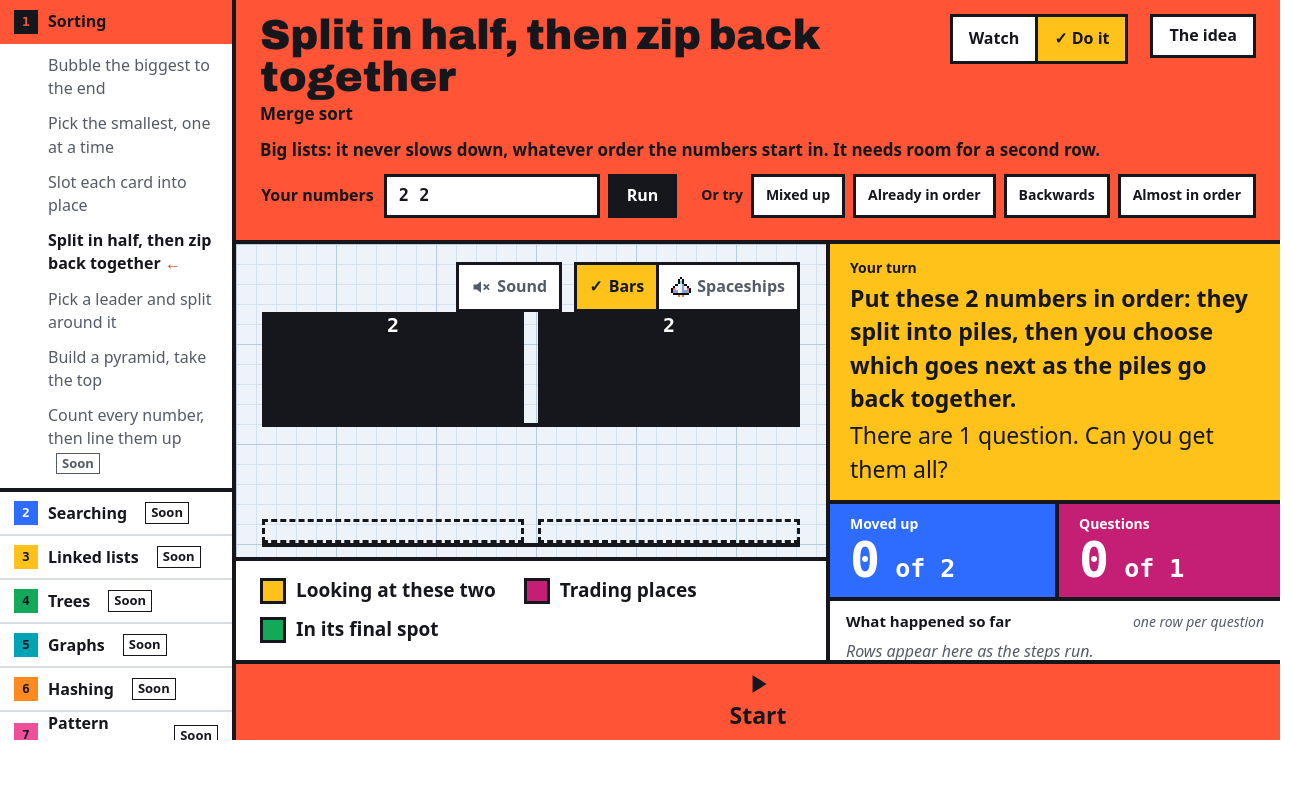
Test case: merge sort: Do it › equal values: the left one is right, the right one is wrong
Click the button "Start" at {"x": 758, "y": 702}, box [236, 664, 1280, 740]
Wait 4000 ms
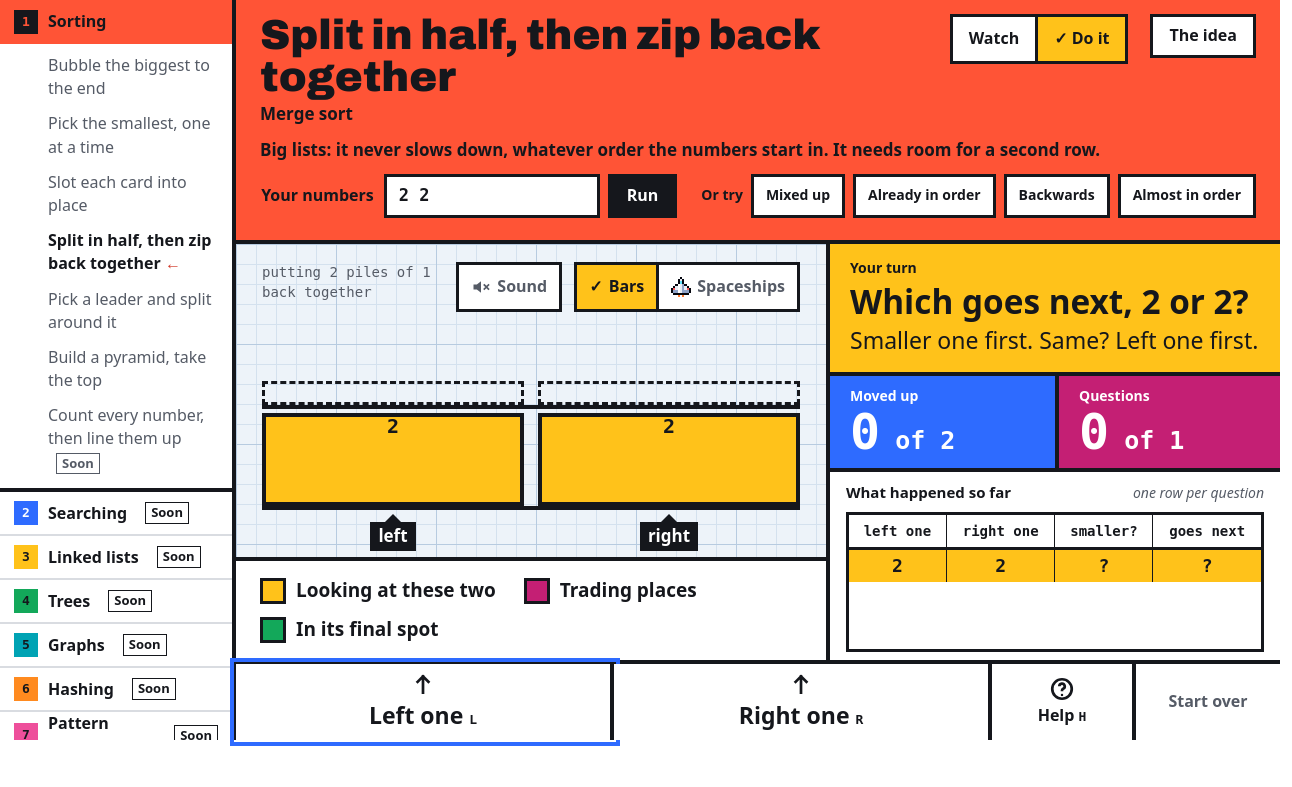
Result: the text with class "do-it-question" reads "Which goes next, 2 or 2?" at [850, 278, 1249, 324]
Click the button "Right one R" at {"x": 803, "y": 702}, box [614, 664, 992, 740]
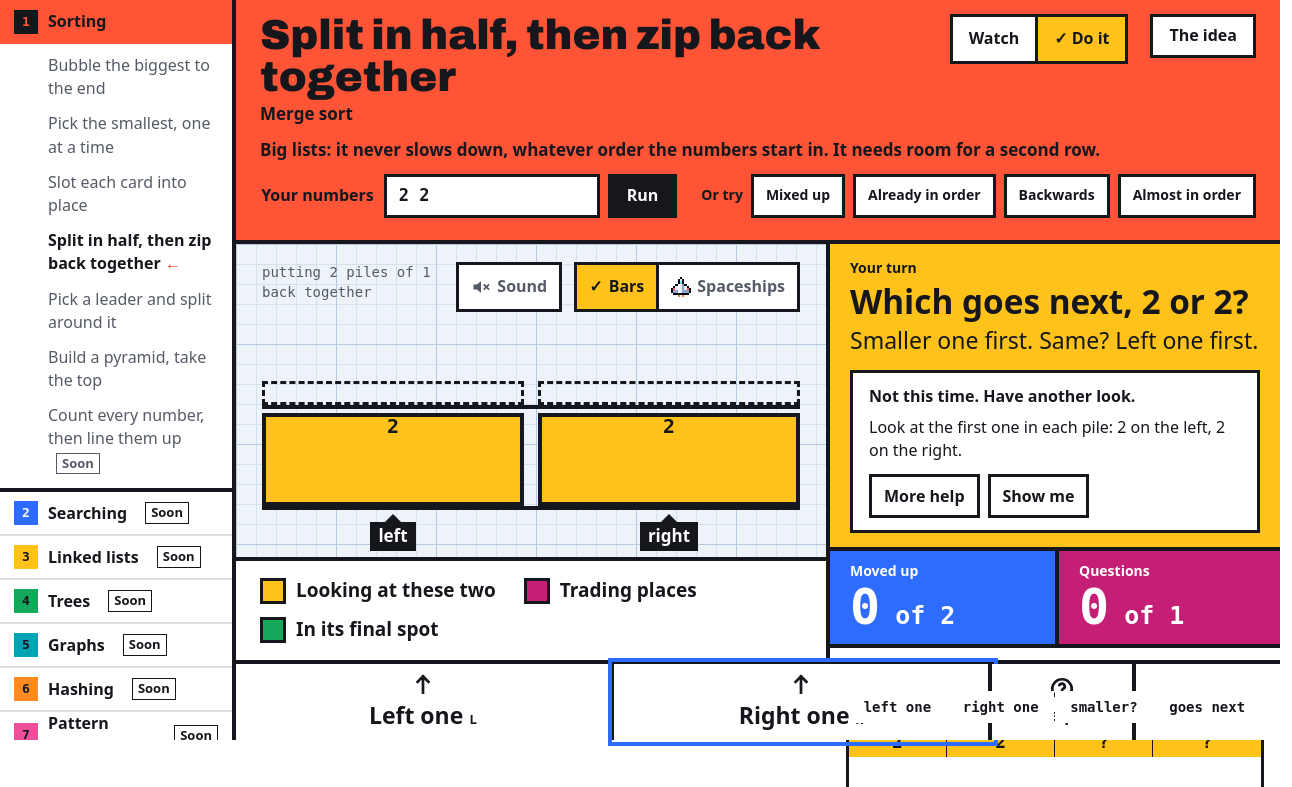
Result: the element with class "do-it-panel" shows "Not this time." at [869, 385, 1135, 407]
Type keys "h"
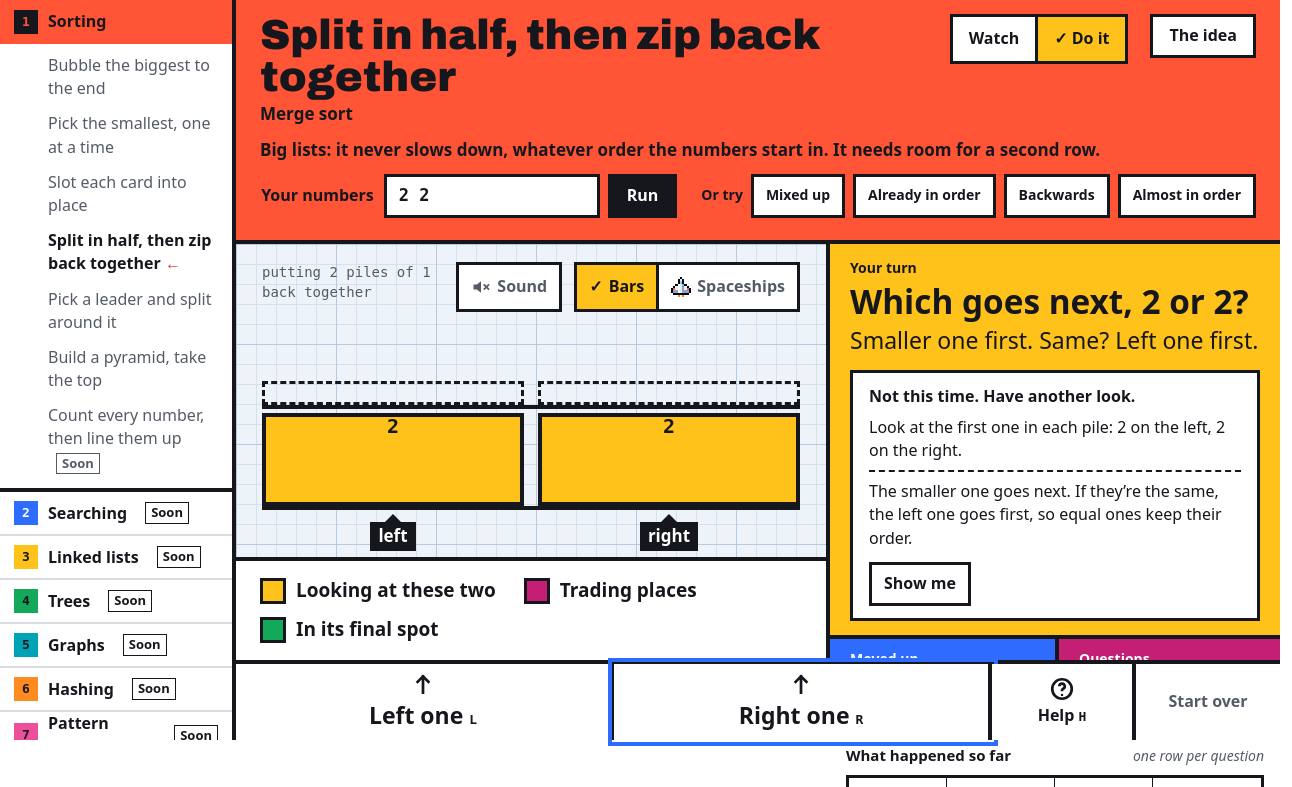
Type keys "h"
Click the button "Show me" at {"x": 920, "y": 584}, box [869, 562, 971, 606]
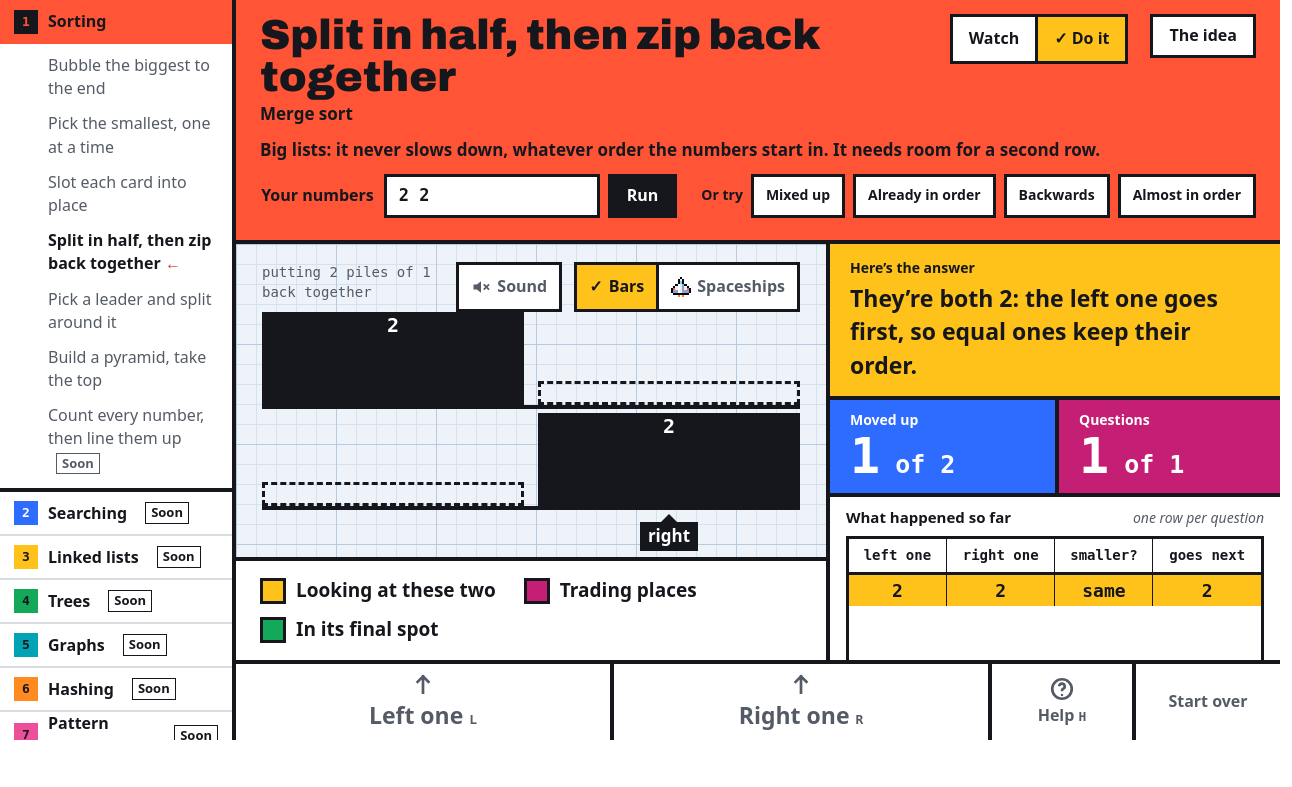
Result: the element with class "do-it-panel" shows "They’re both 2: the left one goes first, so equal ones keep their order." at [850, 282, 1218, 381]
